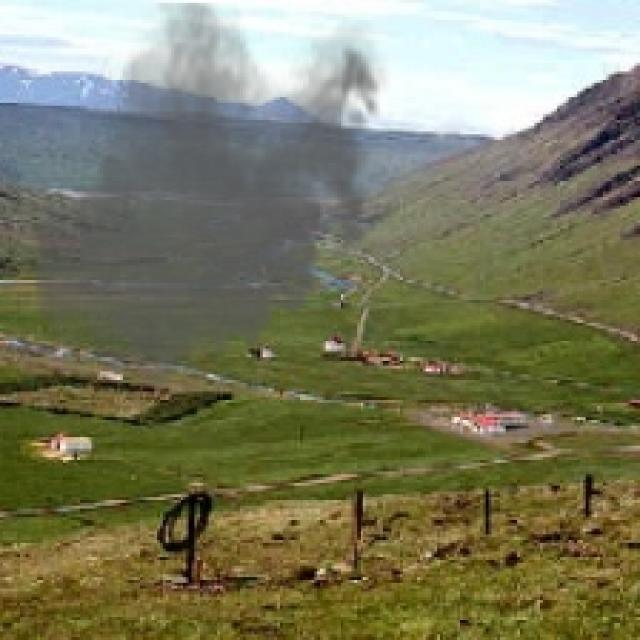Smoke: (26, 3, 392, 406)
